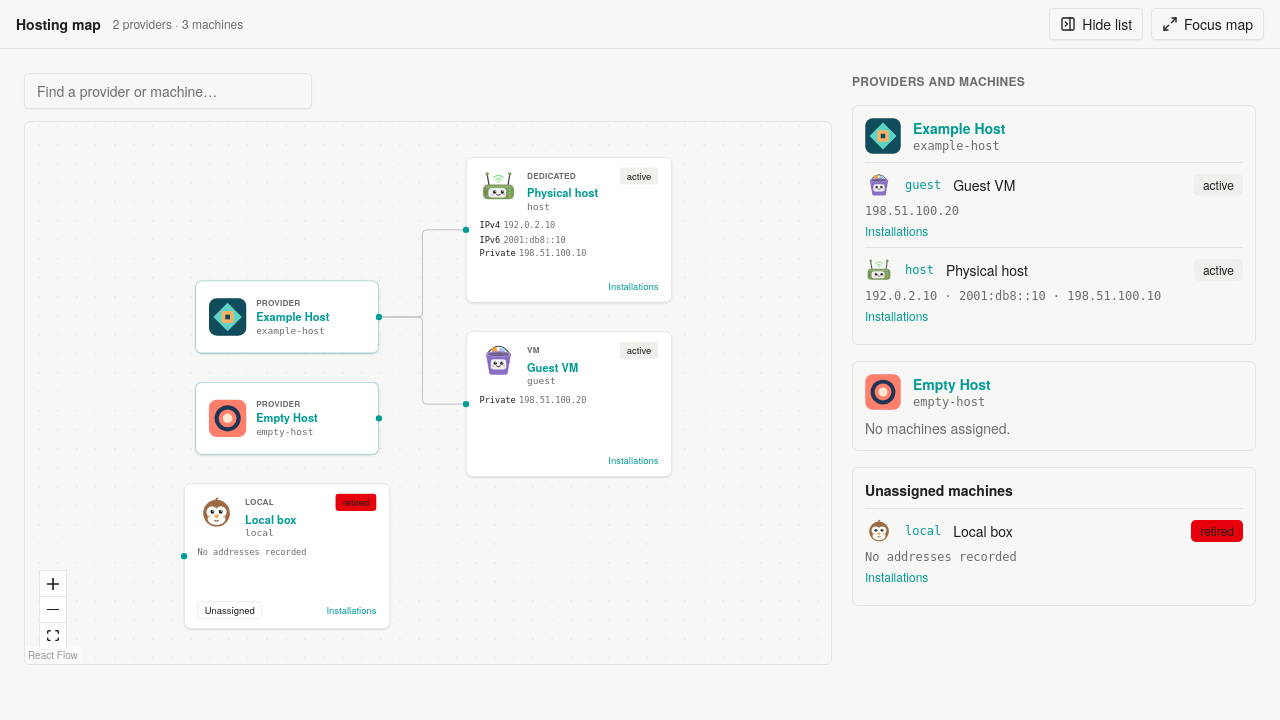
Test case: leaves the focus view on Escape, after closing any open matches first
The image size is (1280, 720).
Expected: the element named "Provider to machine diagram" is shown, [24, 121, 832, 665]
Click the button "Focus map".
click(1208, 24)  # box [1151, 8, 1264, 40]
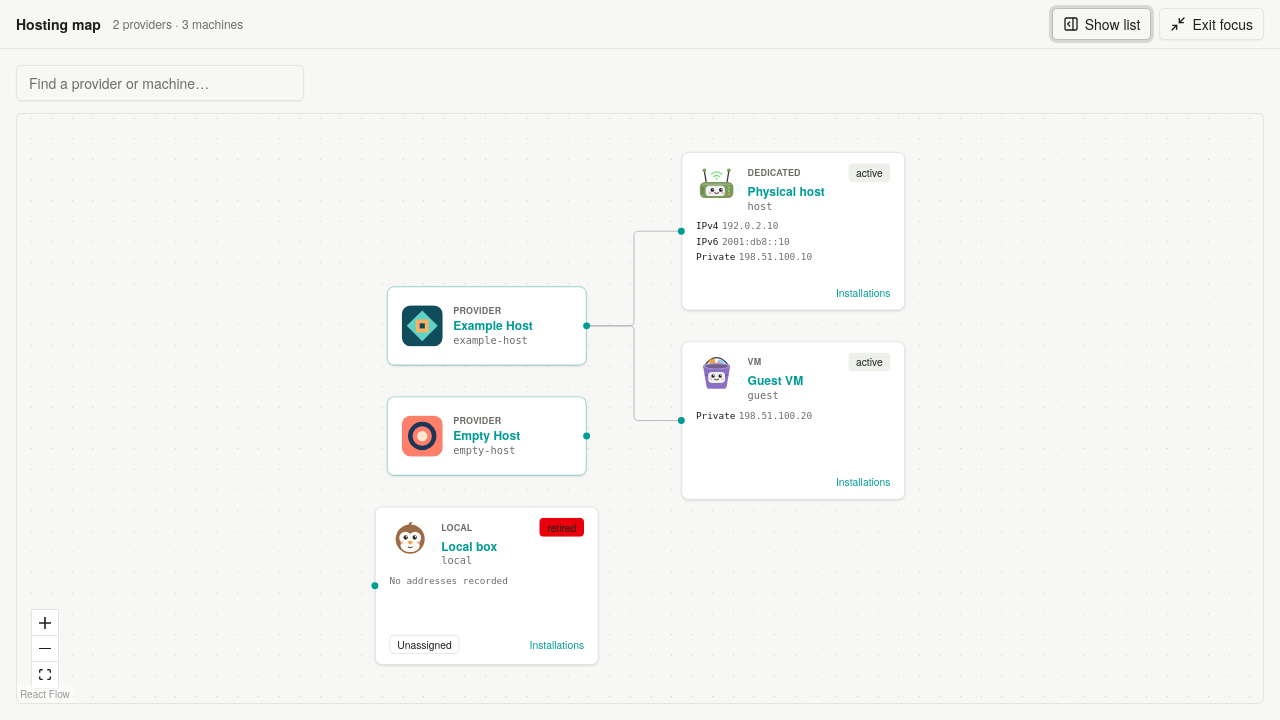
Type "guest" into the search field.
click(160, 83); type("guest")  # box [16, 65, 304, 101]
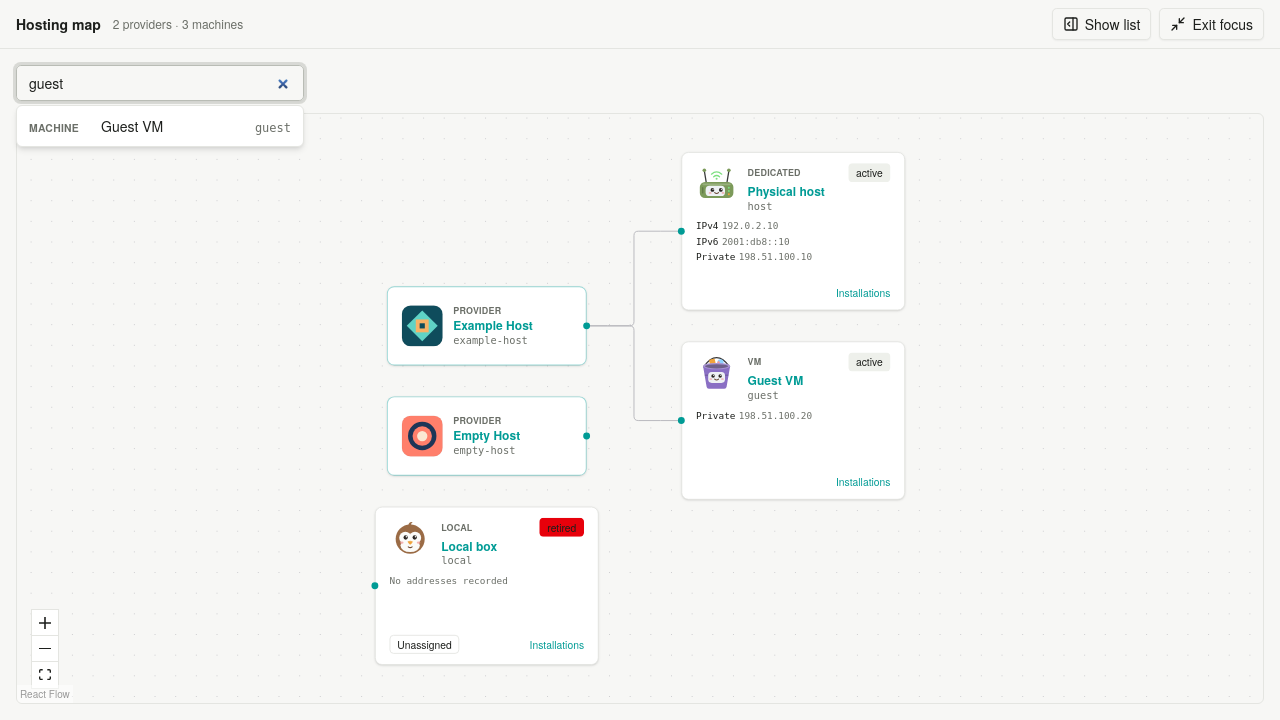
Press Escape
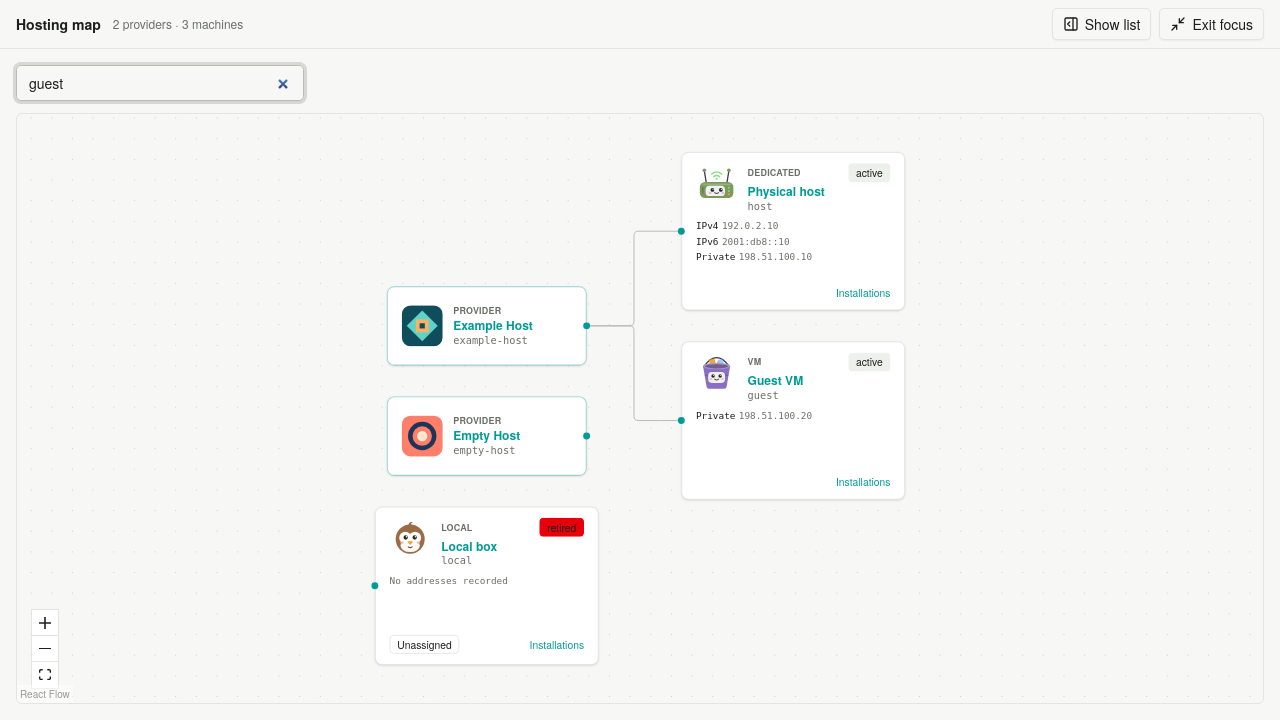
Expected: the dialog "Hosting map" is shown
Expected: the list "Matches" is gone
Press Escape
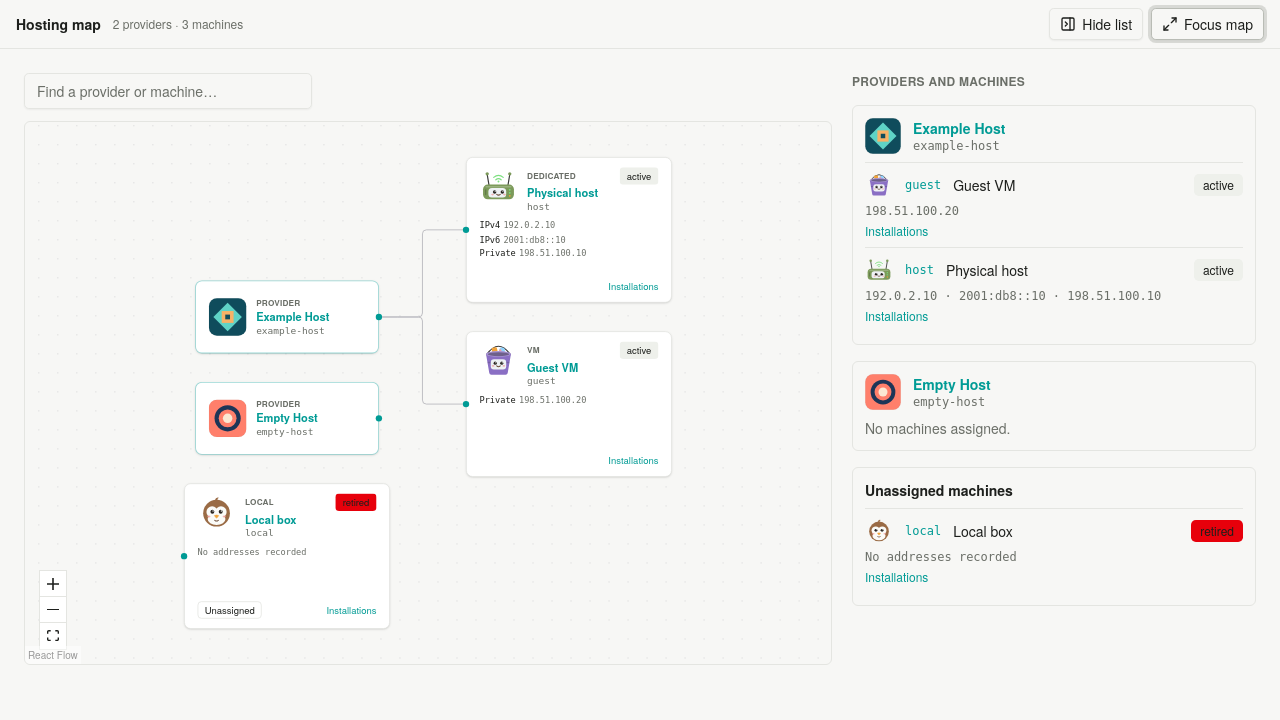
Expected: the dialog is gone
Expected: the element "Providers and machines" is shown, [852, 73, 1256, 665]
